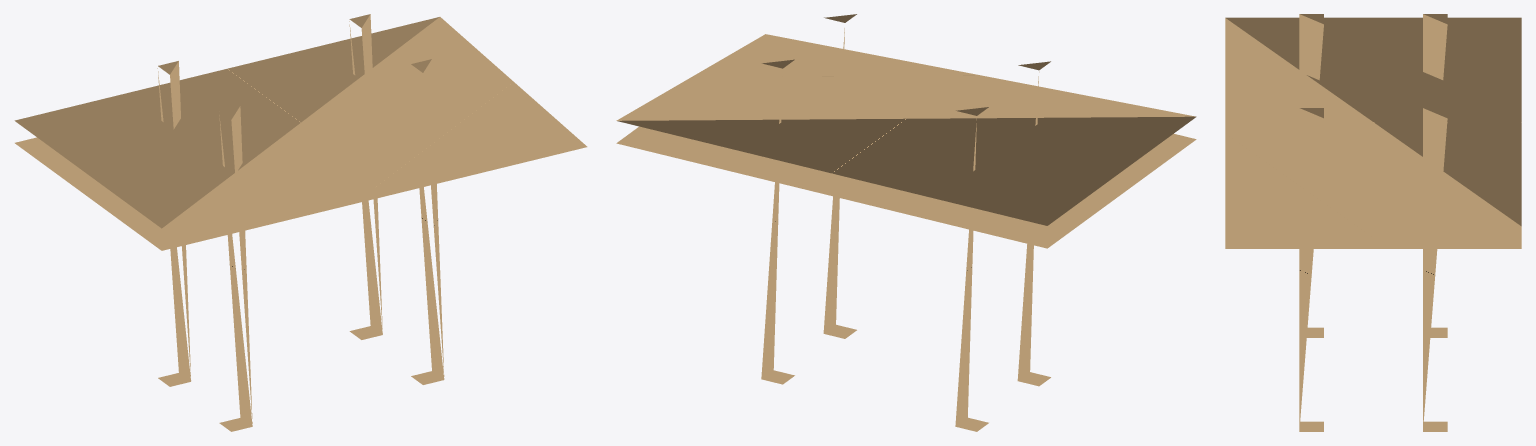
Rendered from table.glb.
3 views of the same model, side by side, from view 1: azimuth 30°, elevation 25°; view 2: azimuth 150°, elevation 25°; view 3: azimuth 270°, elevation 25° (orthographic).
Visible parts, largest first — view 1: TableTop, Leg1, Leg2, Leg3, Leg4; view 2: TableTop, Leg4, Leg3, Leg1, Leg2; view 3: TableTop, Leg1, Leg3, Leg2, Leg4.
Boxes of the visible parts, bbox=[...] form: TableTop: bbox=[14, 17, 587, 250]; Leg1: bbox=[411, 59, 444, 384]; Leg2: bbox=[219, 106, 252, 431]; Leg3: bbox=[349, 14, 382, 339]; Leg4: bbox=[157, 61, 191, 386]; TableTop: bbox=[616, 34, 1196, 248]; Leg4: bbox=[955, 107, 988, 431]; Leg3: bbox=[761, 59, 794, 384]; Leg1: bbox=[823, 14, 856, 338]; Leg2: bbox=[1017, 61, 1050, 386]; TableTop: bbox=[1225, 17, 1521, 248]; Leg1: bbox=[1299, 108, 1323, 431]; Leg3: bbox=[1423, 108, 1447, 431]; Leg2: bbox=[1299, 14, 1323, 337]; Leg4: bbox=[1423, 14, 1447, 337].
Size of the model in its own units: 2 by 1.4 by 1.2.
